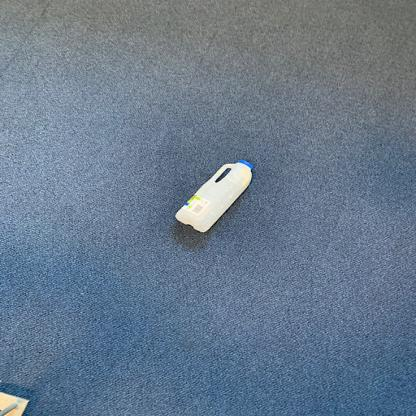trash: (173, 158, 261, 232)
